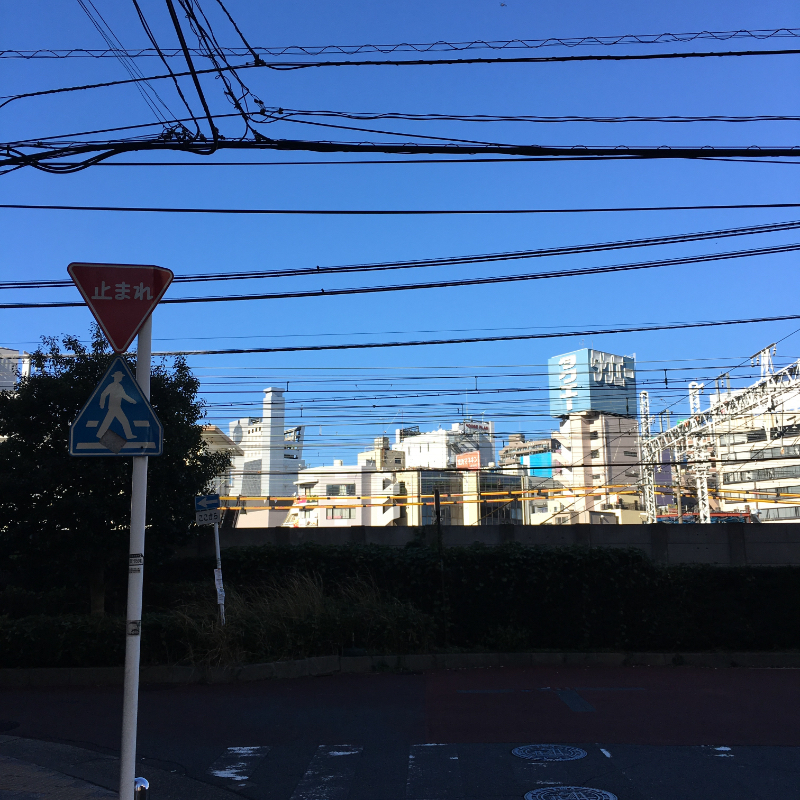STOP: (66, 259, 176, 355)
